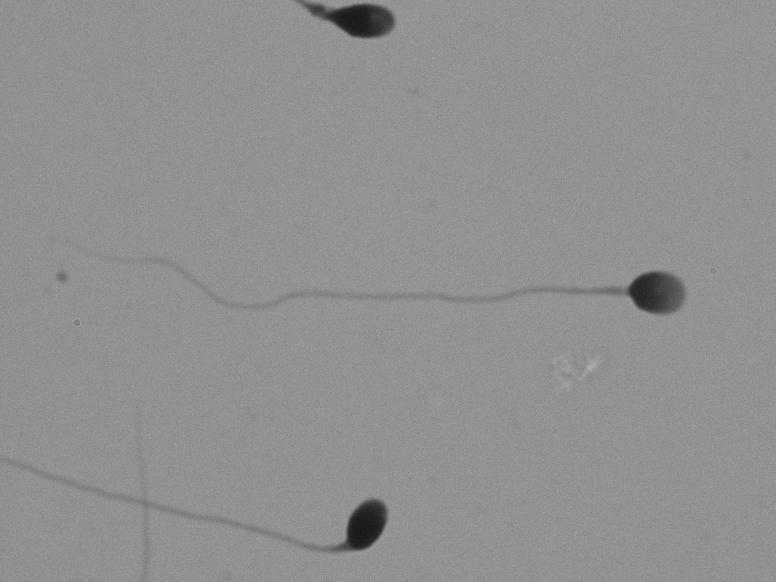Abnormal: (27, 441, 423, 564), (291, 4, 426, 50)
Normal: (42, 215, 724, 364)
